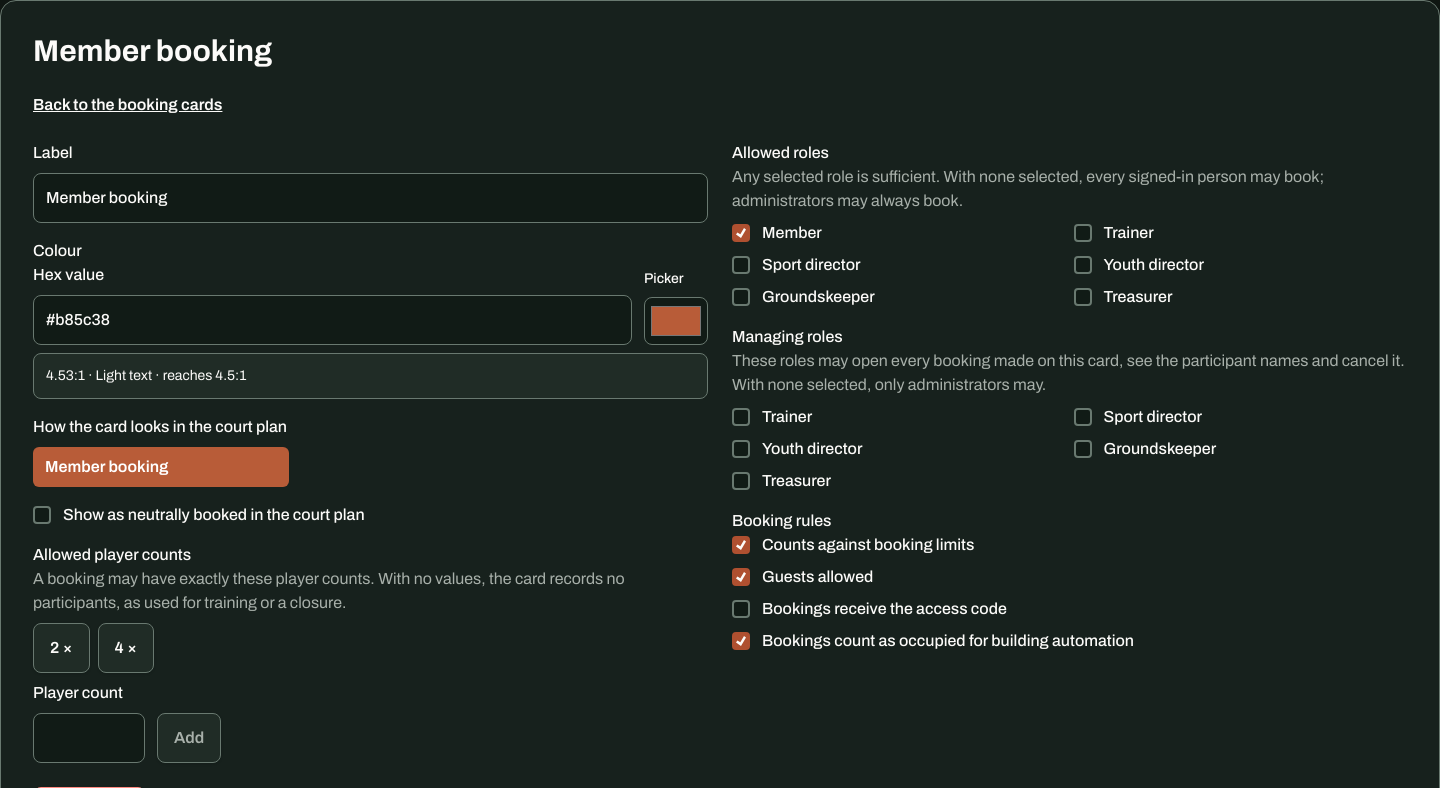
it: AdminBookingCardView › given a card, when a colour is chosen that leaves its label hard to read, then the board is told before saving
Expected: the text with test id "card-color-contrast" shows "reaches 4.5:1", [46, 368, 246, 383]
In the colour field with test id "card-color": (676, 321) [644, 297, 708, 345], type "#777777"
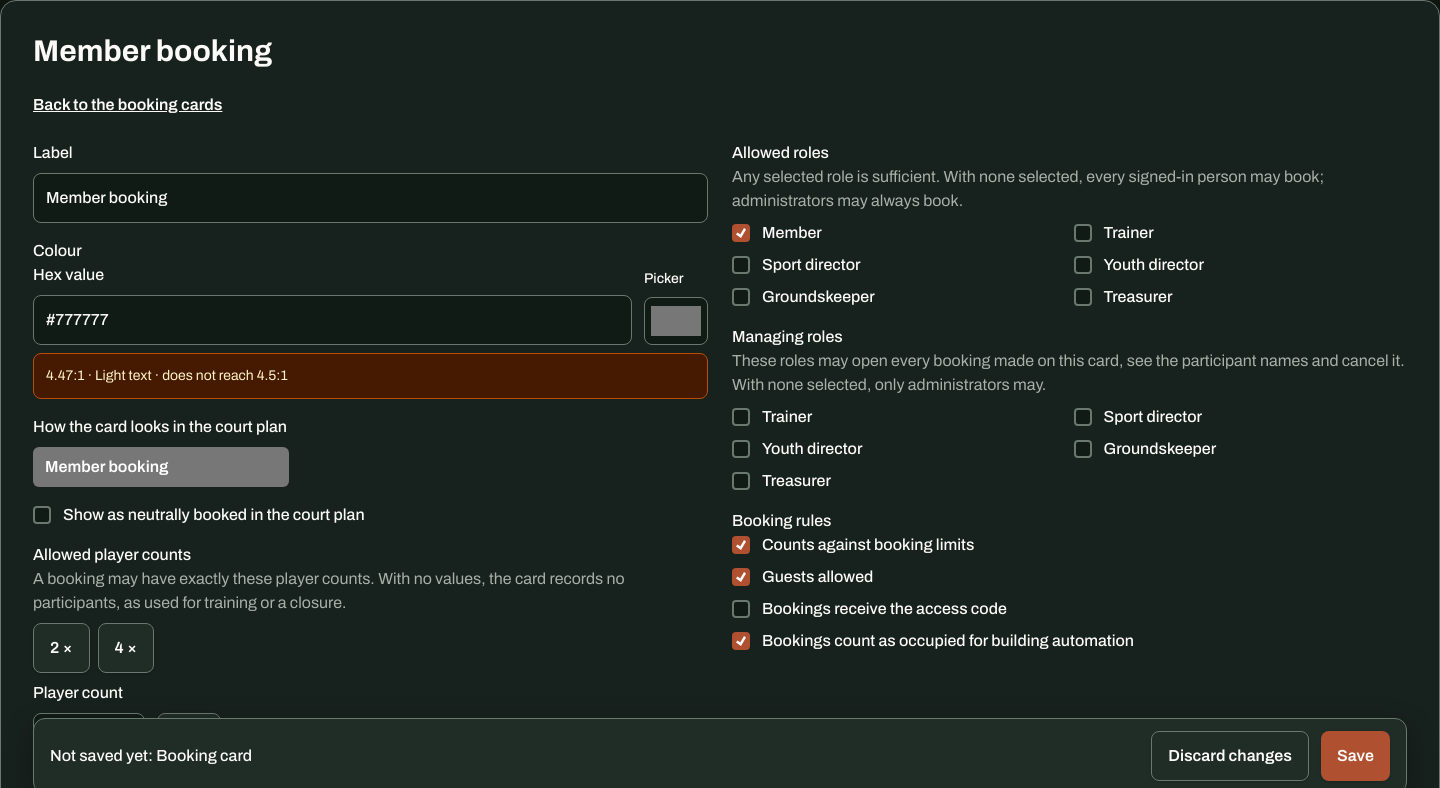
Expected: the text with test id "card-color-contrast" shows "does not reach 4.5:1", [46, 368, 288, 383]
